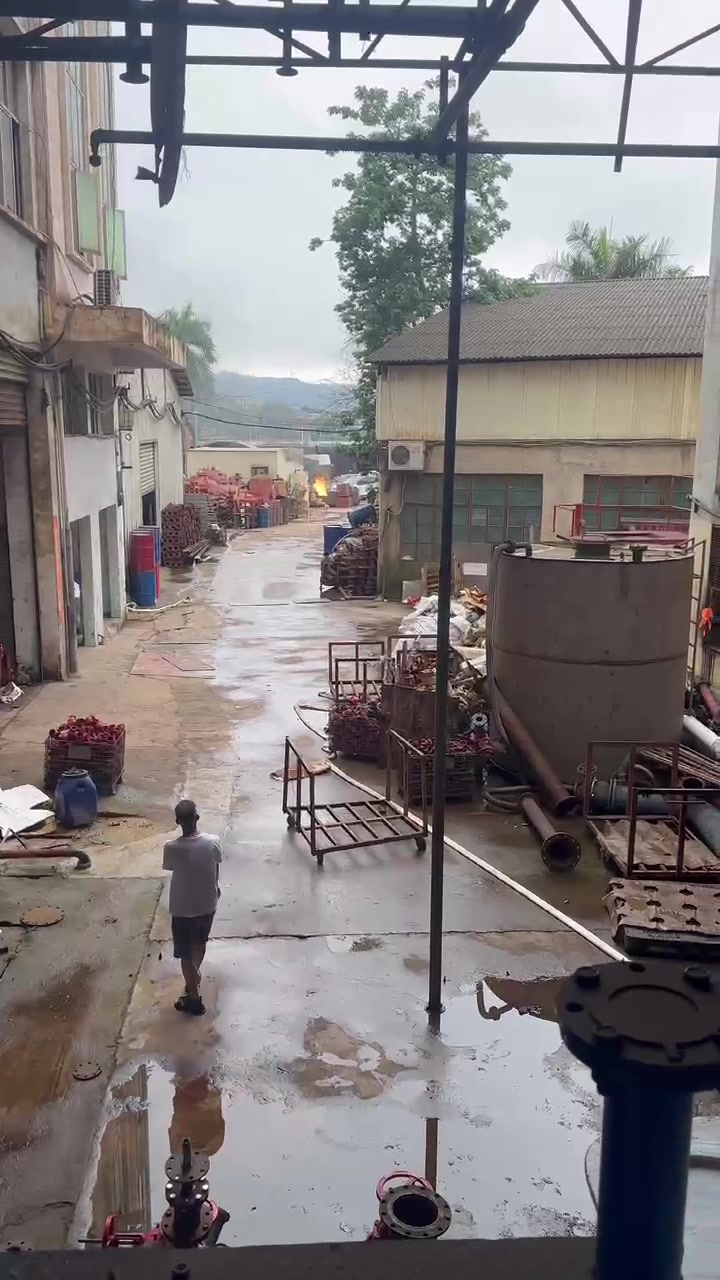fire: (313, 472, 326, 495)
